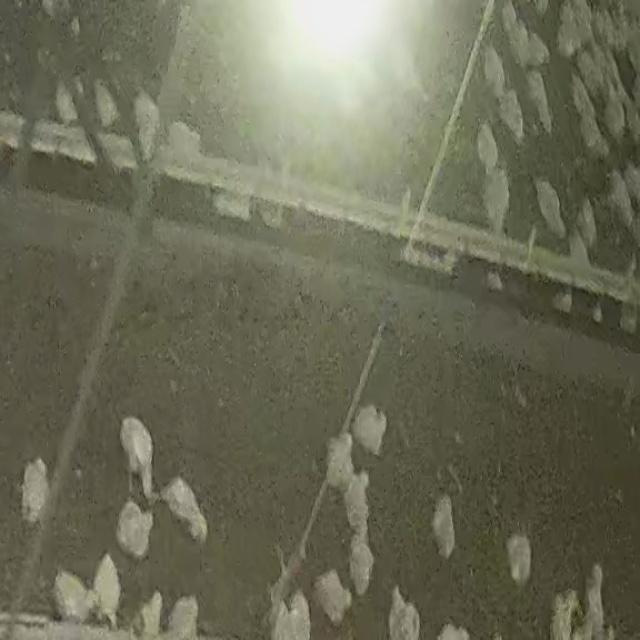chicken: (160, 475, 212, 546), (119, 415, 156, 499), (52, 568, 102, 626), (111, 500, 157, 559), (16, 458, 54, 526), (532, 174, 568, 244), (92, 552, 124, 626), (353, 402, 392, 459), (313, 568, 352, 623), (429, 495, 460, 560), (523, 69, 553, 133), (494, 84, 526, 143), (607, 168, 635, 231), (505, 532, 534, 587), (326, 432, 353, 489), (476, 121, 501, 172), (576, 198, 598, 248)
